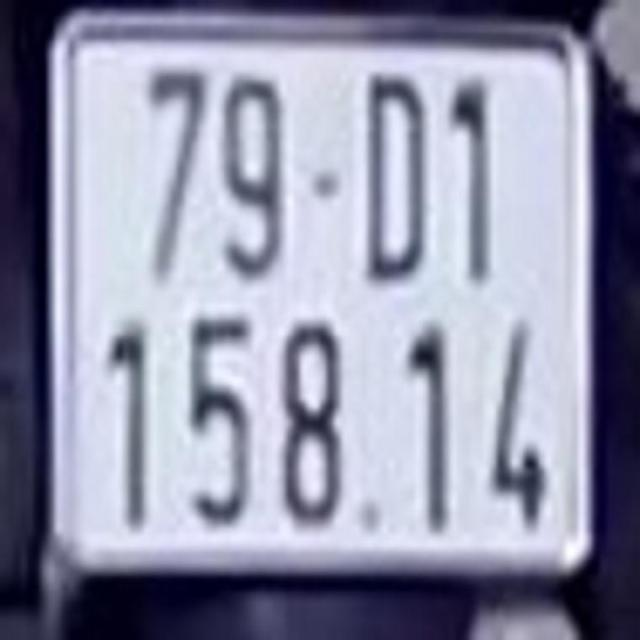1: (446, 68, 494, 276), (104, 316, 150, 524), (405, 312, 448, 532)
4: (492, 312, 552, 530)
5: (188, 310, 256, 526)
7: (144, 67, 210, 280)
8: (285, 321, 342, 521)
9: (220, 72, 284, 276)
D: (363, 69, 431, 282)
